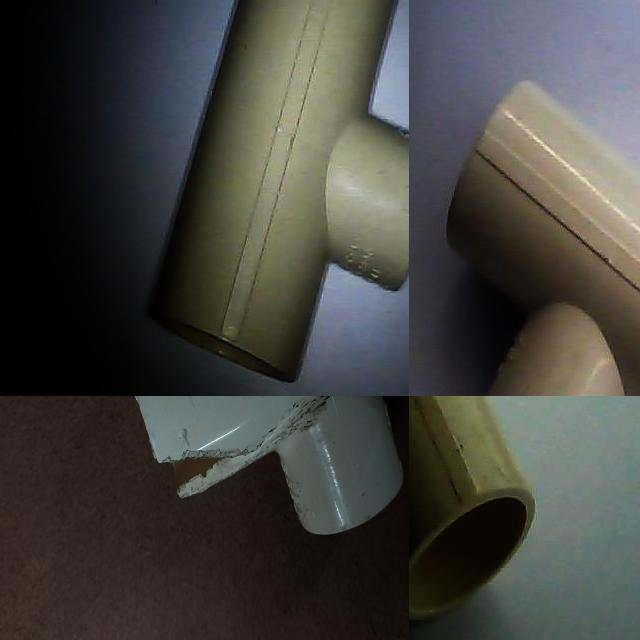Defective: (180, 430, 229, 614)
T Joint: (147, 0, 409, 385), (56, 396, 331, 624), (445, 81, 640, 396), (409, 396, 536, 625)
